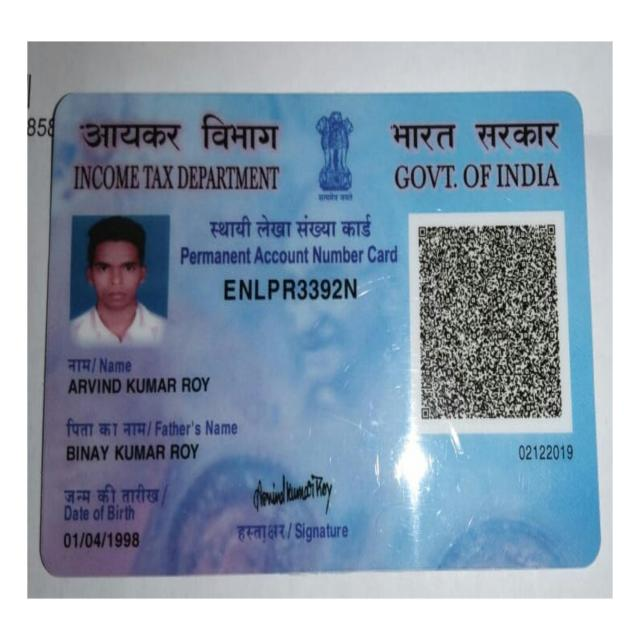pan_card: (47, 93, 594, 571)
